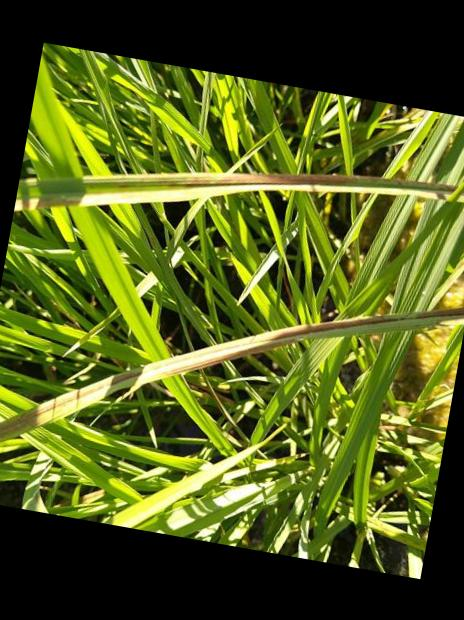Leaf Streak: (0, 306, 464, 440), (14, 172, 464, 209)
